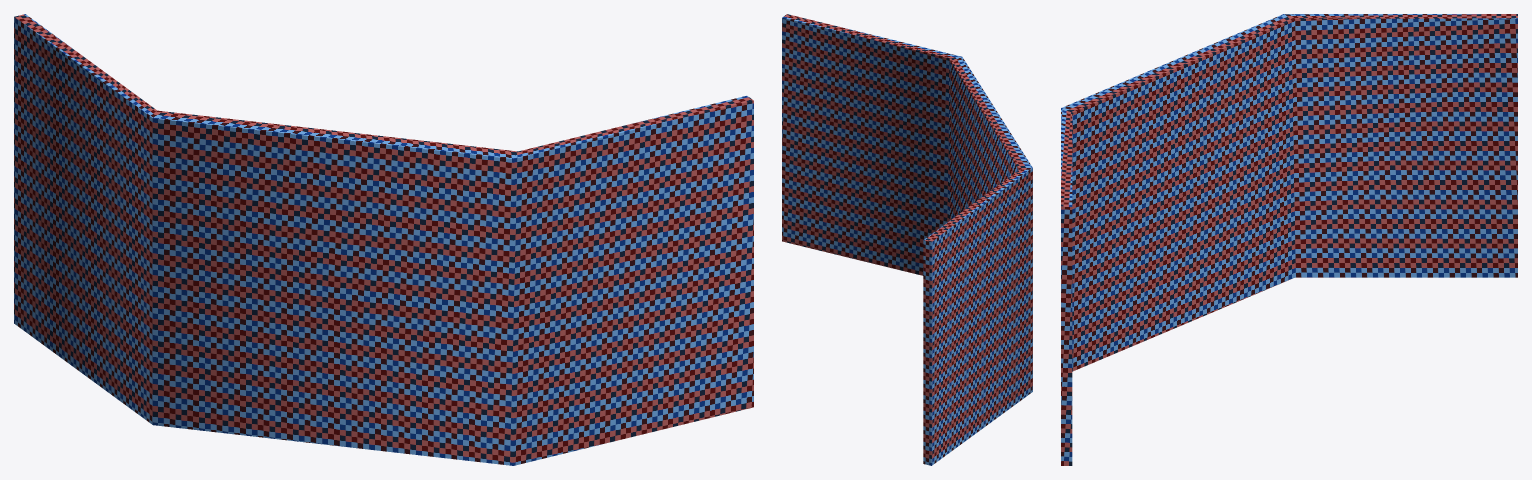
File: Smallwall_turn_angled_01.fbx
3 renders of one model, left to right at view 1: azimuth 30°, elevation 25°; view 2: azimuth 150°, elevation 25°; view 3: azimuth 270°, elevation 25°, orthographic. The views are drawn at different scales.
Visible parts, largest first — view 1: Smallwall_turn_angled_01; view 2: Smallwall_turn_angled_01; view 3: Smallwall_turn_angled_01.
Boxes of the visible parts, x1,y1,x2,y2 form: Smallwall_turn_angled_01: (14, 14, 753, 465); Smallwall_turn_angled_01: (782, 14, 1032, 465); Smallwall_turn_angled_01: (1061, 14, 1517, 465).
Size of the model in its own units: 400 by 250 by 400.
Materials: 1 (1 with a texture image).
